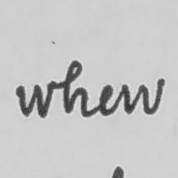e: (96, 82, 116, 118)
h: (60, 58, 91, 119)
w: (13, 79, 58, 120), (120, 76, 166, 116)
